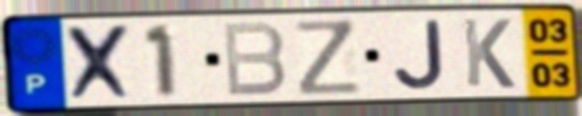1: (140, 23, 185, 100)
B: (219, 19, 289, 99)
J: (390, 17, 448, 92)
K: (459, 16, 518, 91)
X: (62, 22, 139, 104)
Z: (291, 17, 365, 98)
